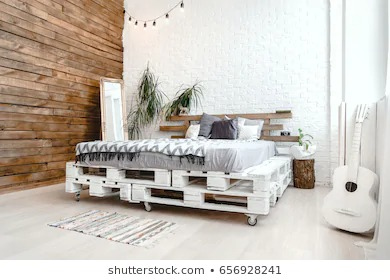pallet: (72, 162, 219, 199)
